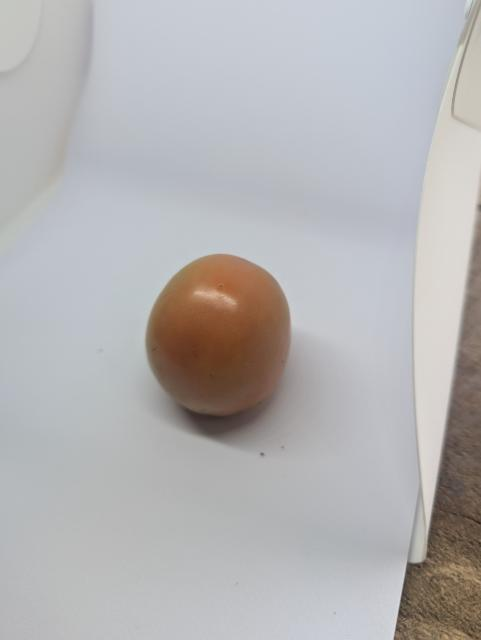turning: (140, 249, 306, 429)
